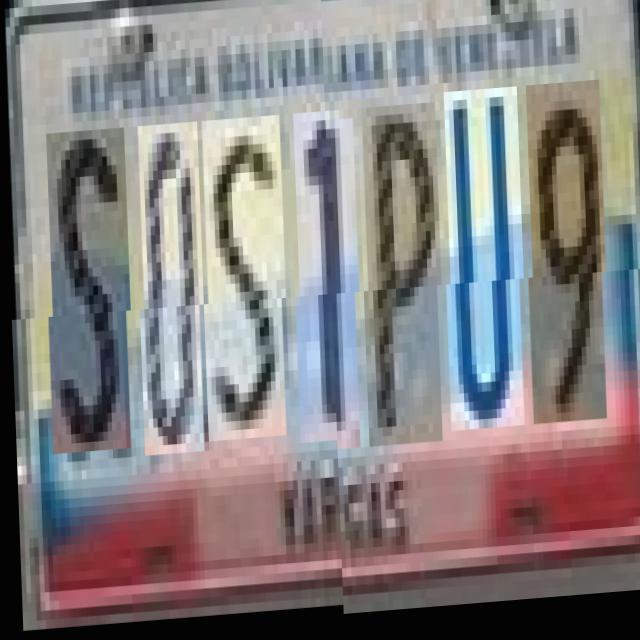0: (137, 134, 206, 467)
1: (292, 124, 361, 457)
9: (524, 90, 608, 433)
P: (361, 110, 444, 453)
S: (201, 129, 288, 454), (46, 139, 132, 464)
U: (442, 95, 526, 438)
